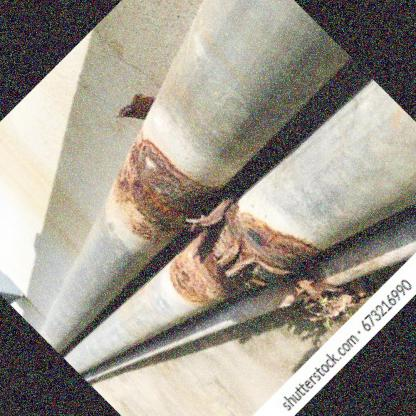burst: (108, 129, 208, 232), (197, 218, 299, 296)
